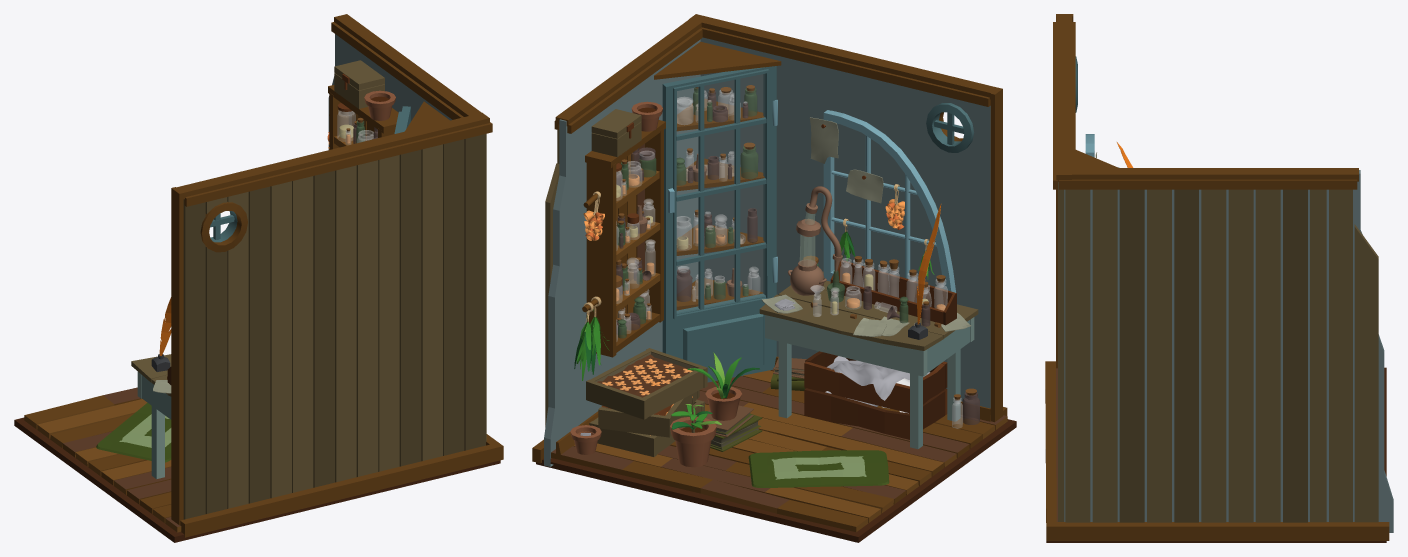
The model's file is HW2_diorama_color_.fbx.
3 views of the same model, side by side, from view 1: azimuth 30°, elevation 25°; view 2: azimuth 150°, elevation 25°; view 3: azimuth 270°, elevation 25° (orthographic). The views are drawn at different scales.
Parts seen in each view (by area): view 1: Cylinder.009, Cylinder.121, Cube.044, Cube.012, Cube.036, Cube, Cube.039, Cube.037, Plane.060, Cube.002, Cube.040, Cylinder.352 (+8 smaller); view 2: Cylinder.005, Cylinder.121, Cube.004, Cube.002, Plane.031, Cube.020, Cube.014, Cube.034, Cube, Plane.060, Cube.012, Cube.006 (+37 smaller); view 3: Cube.031, Cube.018, Cube.002, Cube.043, Cube.037, Cube.041, Cube.036, Cylinder.009, Cube.044, Cube, Cube.039, Cube.038 (+2 smaller).
Boxes of the visible parts, x1,y1,x2,y2 form: Cylinder.009: (183,134,485,519); Cylinder.121: (24,387,181,532); Cube.044: (180,444,494,537); Cube.012: (171,187,183,525); Cube.036: (176,112,489,199); Cube: (14,417,500,542); Cube.039: (184,122,492,206); Cube.037: (334,14,481,116); Plane.060: (96,402,171,462); Cube.002: (328,34,452,149); Cube.040: (331,22,463,119); Cylinder.352: (200,202,247,252); Cylinder.005: (700,37,990,408); Cylinder.121: (551,369,1007,532); Cube.004: (662,66,776,382); Cube.002: (544,39,700,466); Plane.031: (586,348,707,456); Cube.020: (586,128,663,357); Cube.014: (804,351,947,439); Cube.034: (654,41,781,310); Cube: (536,419,1016,542); Plane.060: (748,450,889,487); Cube.012: (990,88,1002,422); Cube.006: (765,315,974,376); Cube.031: (1065,189,1307,522); Cube.018: (1310,189,1378,522); Cube.002: (1064,170,1393,532); Cube.043: (1046,522,1389,540); Cube.037: (1072,168,1358,181); Cube.041: (1059,179,1357,189); Cube.036: (1056,16,1071,181); Cylinder.009: (1058,182,1064,521); Cube.044: (1045,361,1056,522); Cube: (1046,367,1386,542); Cube.039: (1053,22,1057,189); Cube.038: (1072,22,1075,167).
Size of the model in its own units: 1572 by 1569 by 1358.
